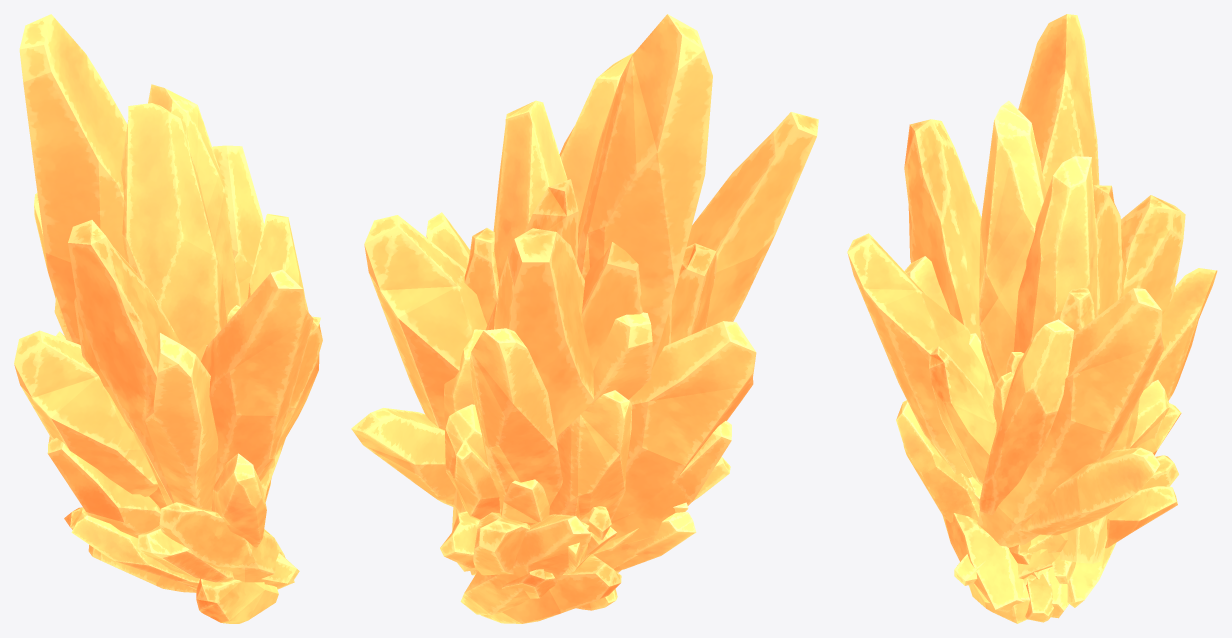
Rendered from Room04_FloorCrystals.fbx.
3 renders of one model, left to right at view 1: azimuth 30°, elevation 25°; view 2: azimuth 150°, elevation 25°; view 3: azimuth 270°, elevation 25°, orthographic. The views are drawn at different scales.
Visible parts, largest first — view 1: Crystal_Cluster_M_02, Crystal_Cluster_M_01, Crystal_Cluster_M_03; view 2: Crystal_Cluster_M_01, Crystal_Cluster_M_03, Crystal_Cluster_M_02, Crystal_Cluster_S_01; view 3: Crystal_Cluster_M_01, Crystal_Cluster_M_02, Crystal_Cluster_M_03, Crystal_Cluster_S_02.
Part boxes in pixels (box(x1,y1,x2,y2)): Crystal_Cluster_M_02: box(48, 103, 322, 623); Crystal_Cluster_M_01: box(14, 14, 304, 586); Crystal_Cluster_M_03: box(34, 193, 266, 592); Crystal_Cluster_M_01: box(351, 14, 756, 574); Crystal_Cluster_M_03: box(444, 112, 818, 610); Crystal_Cluster_M_02: box(452, 52, 688, 623); Crystal_Cluster_S_01: box(501, 312, 652, 525); Crystal_Cluster_M_01: box(954, 14, 1185, 585); Crystal_Cluster_M_02: box(847, 100, 1126, 623); Crystal_Cluster_M_03: box(896, 119, 1217, 579); Crystal_Cluster_S_02: box(968, 352, 1075, 586).
Size of the model in its own units: 3.72 by 7.17 by 4.49.
